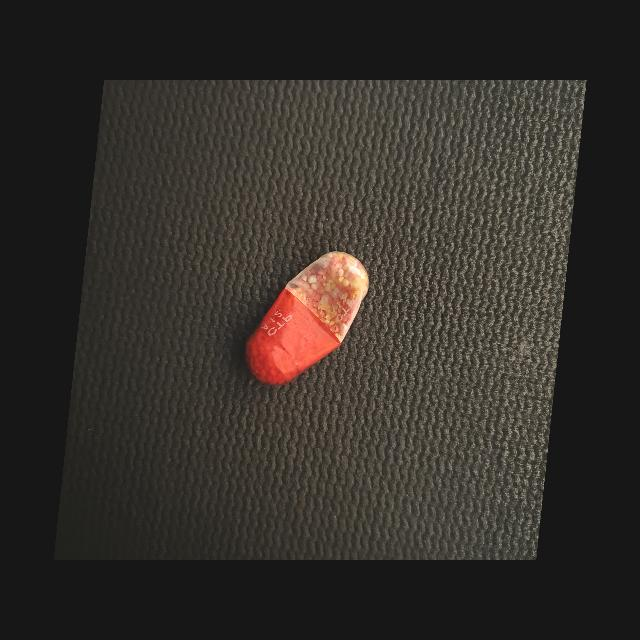Defective Capsule: (246, 251, 369, 385)
